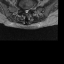CCS_severe_stenosis: (26, 8, 27, 14)
LFS_stenosis: (29, 7, 30, 11)
LLS_stenosis: (27, 8, 29, 13)
RFS_severe_stenosis: (23, 7, 24, 12)
RLS_severe_stenosis: (24, 7, 26, 13)
